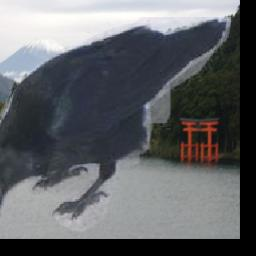Crow: (0, 17, 231, 231)
